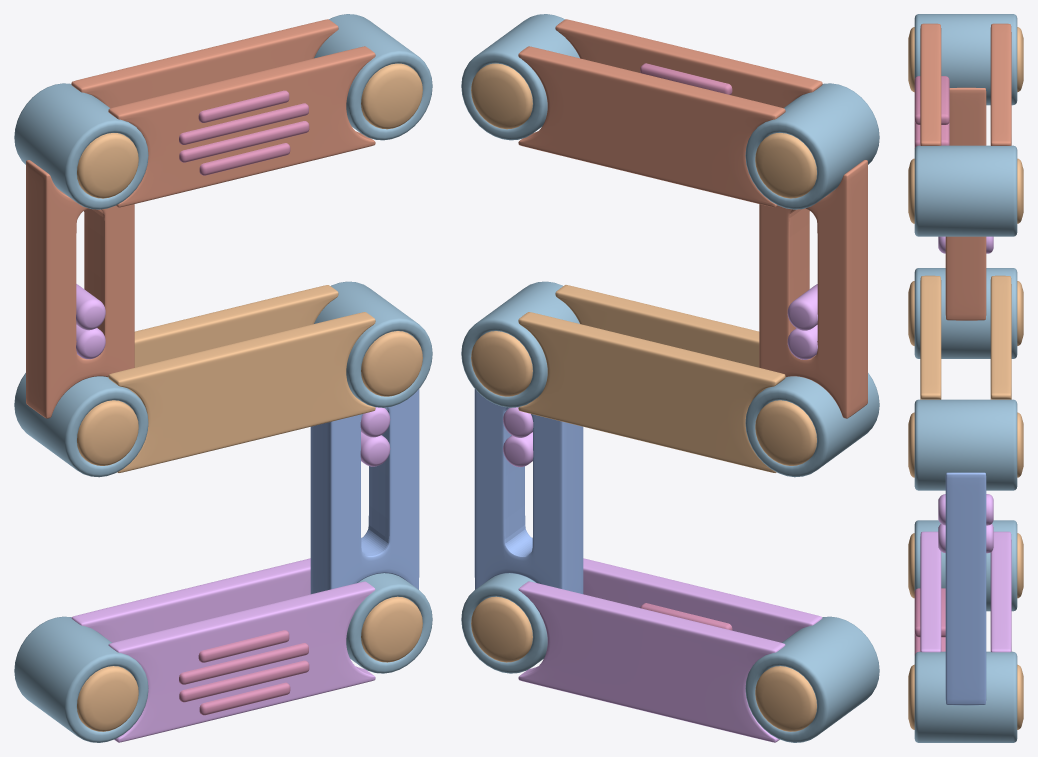
File: spring_boot.glb
3 views of the same model, side by side, from view 1: azimuth 30°, elevation 25°; view 2: azimuth 150°, elevation 25°; view 3: azimuth 270°, elevation 25° (orthographic). The views are drawn at different scales.
Visible parts, largest first — view 1: Cube.018; view 2: Cube.018; view 3: Cube.018.
Boxes of the visible parts, x1,y1,x2,y2 form: Cube.018: [14, 14, 432, 742]; Cube.018: [461, 14, 879, 742]; Cube.018: [908, 14, 1023, 742].
Bounding box in the file's own units: 2.06 × 3.31 × 0.5799.
